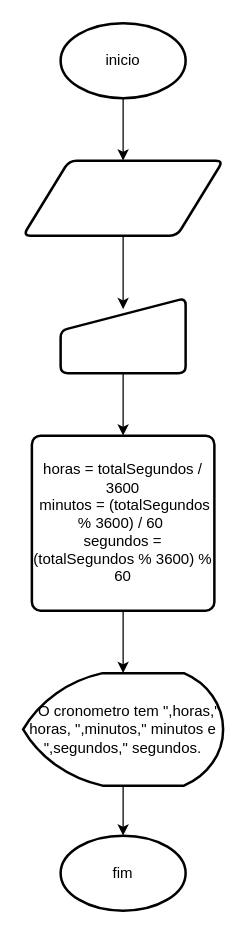
The diagram is 245 pixels wide and 933 high, and some of its shapes have lost their labels. Here are the shapes that lost their labels. From the top down, the centre of each, then its label:
pixel 122 197: totalSegundos, horas, minutos,segundos
pixel 122 335: totalSegundos
